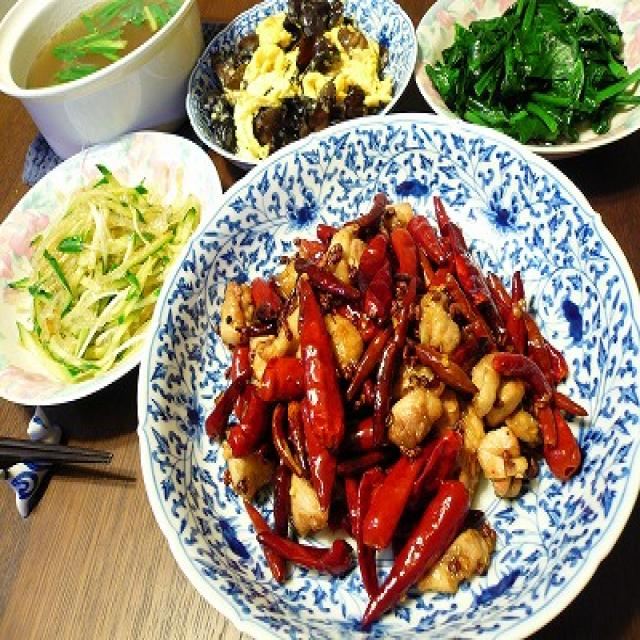蔬菜料理: (385, 0, 640, 202)
